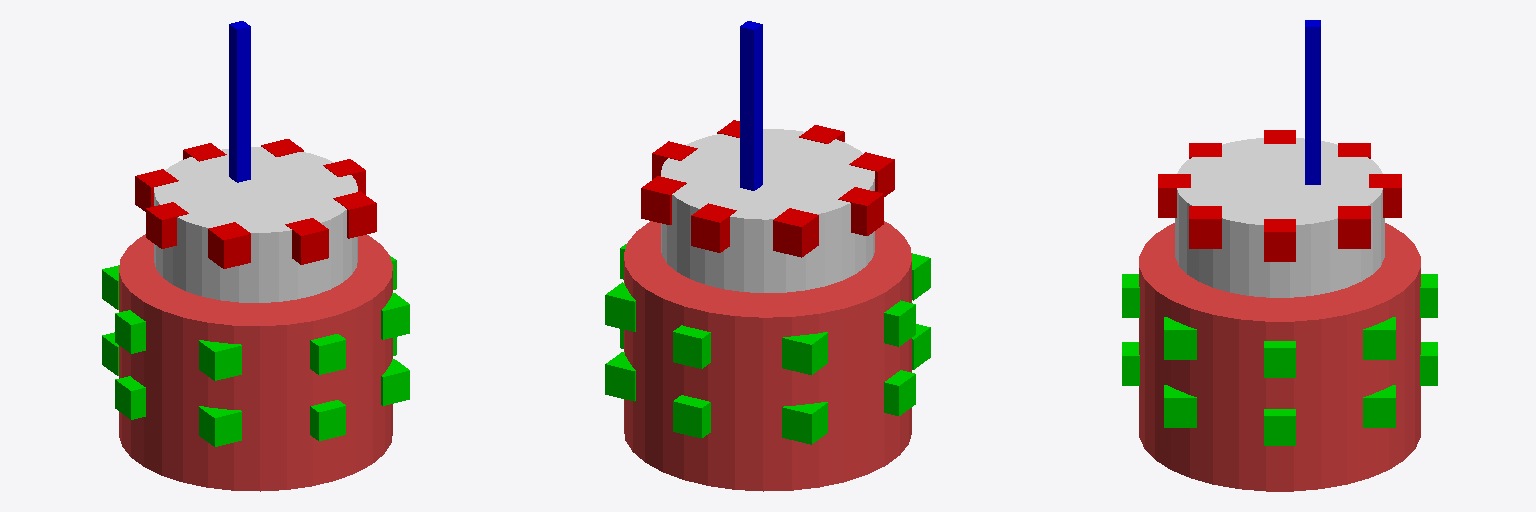
The robot description file, URDF, robot "random_bottle":
<?xml version="1.0"?>
<robot name="random_bottle">

  <!-- Define the cap link -->
  <link name="link1">
    <visual>
      <geometry>
        <mesh filename="cap.obj" scale="1.0 1.0 1.0"/>
      </geometry>
       <material name="white">
        <color rgba=".9 .9 .9 1"/>
      </material>

    </visual>
    <collision>
      <geometry>
        <mesh filename="cap.obj" scale="1.0 1.0 1.0"/>
      </geometry>
    </collision>

    <inertial>
      <mass value="0.014248400368484066"/> <!-- You can adjust the mass as needed -->
      <origin rpy="0 0 0" xyz="0 0 0"/>
      <inertia ixx="4.340370778324409e-06" ixy="0.0" ixz="0.0" iyy="4.340370778324409e-06" iyz="0.0" izz="7.291925552288946e-06"/>
    </inertial>
  </link>

    <link name="l10">
    <visual>
      <geometry>
        <box size="0.01 0.01 0.01"/>
      </geometry>

      <material name="red">
        <color rgba="0.9 0.0 0.0 1"/>
      </material>

    </visual>

    <inertial>
      <mass value="0.0001"/> <!-- You can adjust the mass as needed -->
      <origin rpy="0 0 0" xyz="0 0 -0.00"/> <!-- Offset by half of link1's height + 0.03m for the margin -->
      <inertia ixx="0.000000003" ixy="0.0" ixz="0.0" iyy="0.0000003" iyz="0.0" izz="0.00000003"/>
    </inertial>

  </link>
  <link name="l11">
    <visual>
      <geometry>
        <box size="0.01 0.01 0.01"/>
      </geometry>

      <material name="red">
        <color rgba="0.9 0.0 0.0 1"/>
      </material>

    </visual>

    <inertial>
      <mass value="0.0001"/> <!-- You can adjust the mass as needed -->
      <origin rpy="0 0 0" xyz="0 0 -0.00"/> <!-- Offset by half of link1's height + 0.03m for the margin -->
      <inertia ixx="0.000000003" ixy="0.0" ixz="0.0" iyy="0.0000003" iyz="0.0" izz="0.00000003"/>
    </inertial>

  </link>
  <link name="l12">
    <visual>
      <geometry>
        <box size="0.01 0.01 0.01"/>
      </geometry>

      <material name="red">
        <color rgba="0.9 0.0 0.0 1"/>
      </material>

    </visual>

    <inertial>
      <mass value="0.0001"/> <!-- You can adjust the mass as needed -->
      <origin rpy="0 0 0" xyz="0 0 -0.00"/> <!-- Offset by half of link1's height + 0.03m for the margin -->
      <inertia ixx="0.000000003" ixy="0.0" ixz="0.0" iyy="0.0000003" iyz="0.0" izz="0.00000003"/>
    </inertial>

  </link>
  <link name="l13">
    <visual>
      <geometry>
        <box size="0.01 0.01 0.01"/>
      </geometry>

      <material name="red">
        <color rgba="0.9 0.0 0.0 1"/>
      </material>

    </visual>

    <inertial>
      <mass value="0.0001"/> <!-- You can adjust the mass as needed -->
      <origin rpy="0 0 0" xyz="0 0 -0.00"/> <!-- Offset by half of link1's height + 0.03m for the margin -->
      <inertia ixx="0.000000003" ixy="0.0" ixz="0.0" iyy="0.0000003" iyz="0.0" izz="0.00000003"/>
    </inertial>

  </link>
  <link name="l10b">
    <visual>
      <geometry>
        <box size="0.01 0.01 0.01"/>
      </geometry>

      <material name="red">
        <color rgba="0.9 0.0 0.0 1"/>
      </material>

    </visual>

    <inertial>
      <mass value="0.0001"/> <!-- You can adjust the mass as needed -->
      <origin rpy="0 0 0" xyz="0 0 -0.00"/> <!-- Offset by half of link1's height + 0.03m for the margin -->
      <inertia ixx="0.000000003" ixy="0.0" ixz="0.0" iyy="0.0000003" iyz="0.0" izz="0.00000003"/>
    </inertial>

  </link>
  <link name="l11b">
    <visual>
      <geometry>
        <box size="0.01 0.01 0.01"/>
      </geometry>

      <material name="red">
        <color rgba="0.9 0.0 0.0 1"/>
      </material>

    </visual>

    <inertial>
      <mass value="0.0001"/> <!-- You can adjust the mass as needed -->
      <origin rpy="0 0 0" xyz="0 0 -0.00"/> <!-- Offset by half of link1's height + 0.03m for the margin -->
      <inertia ixx="0.000000003" ixy="0.0" ixz="0.0" iyy="0.0000003" iyz="0.0" izz="0.00000003"/>
    </inertial>

  </link>
  <link name="l12b">
    <visual>
      <geometry>
        <box size="0.01 0.01 0.01"/>
      </geometry>

      <material name="red">
        <color rgba="0.9 0.0 0.0 1"/>
      </material>

    </visual>

    <inertial>
      <mass value="0.0001"/> <!-- You can adjust the mass as needed -->
      <origin rpy="0 0 0" xyz="0 0 -0.00"/> <!-- Offset by half of link1's height + 0.03m for the margin -->
      <inertia ixx="0.000000003" ixy="0.0" ixz="0.0" iyy="0.0000003" iyz="0.0" izz="0.00000003"/>
    </inertial>

  </link>
  <link name="l13b">
    <visual>
      <geometry>
        <box size="0.01 0.01 0.01"/>
      </geometry>

      <material name="red">
        <color rgba="0.9 0.0 0.0 1"/>
      </material>

    </visual>

    <inertial>
      <mass value="0.0001"/> <!-- You can adjust the mass as needed -->
      <origin rpy="0 0 0" xyz="0 0 -0.00"/> <!-- Offset by half of link1's height + 0.03m for the margin -->
      <inertia ixx="0.000000003" ixy="0.0" ixz="0.0" iyy="0.0000003" iyz="0.0" izz="0.00000003"/>
    </inertial>

  </link>
  <link name="l20">
    <visual>
      <geometry>
        <box size="0.01 0.01 0.01"/>
      </geometry>

      <material name="red">
        <color rgba="0.0 0.9 0.0 1"/>
      </material>

    </visual>

    <inertial>
      <mass value="0.0001"/> <!-- You can adjust the mass as needed -->
      <origin rpy="0 0 0" xyz="0 0 -0.00"/> <!-- Offset by half of link1's height + 0.03m for the margin -->
      <inertia ixx="0.000000003" ixy="0.0" ixz="0.0" iyy="0.0000003" iyz="0.0" izz="0.00000003"/>
    </inertial>

  </link>
  <link name="l21">
    <visual>
      <geometry>
        <box size="0.01 0.01 0.01"/>
      </geometry>

      <material name="red">
        <color rgba="0.0 0.9 0.0 1"/>
      </material>

    </visual>

    <inertial>
      <mass value="0.0001"/> <!-- You can adjust the mass as needed -->
      <origin rpy="0 0 0" xyz="0 0 -0.00"/> <!-- Offset by half of link1's height + 0.03m for the margin -->
      <inertia ixx="0.000000003" ixy="0.0" ixz="0.0" iyy="0.0000003" iyz="0.0" izz="0.00000003"/>
    </inertial>

  </link>
  <link name="l22">
    <visual>
      <geometry>
        <box size="0.01 0.01 0.01"/>
      </geometry>

      <material name="red">
        <color rgba="0.0 0.9 0.0 1"/>
      </material>

    </visual>

    <inertial>
      <mass value="0.0001"/> <!-- You can adjust the mass as needed -->
      <origin rpy="0 0 0" xyz="0 0 -0.00"/> <!-- Offset by half of link1's height + 0.03m for the margin -->
      <inertia ixx="0.000000003" ixy="0.0" ixz="0.0" iyy="0.0000003" iyz="0.0" izz="0.00000003"/>
    </inertial>

  </link>
  <link name="l23">
    <visual>
      <geometry>
        <box size="0.01 0.01 0.01"/>
      </geometry>

      <material name="red">
        <color rgba="0.0 0.9 0.0 1"/>
      </material>

    </visual>

    <inertial>
      <mass value="0.0001"/> <!-- You can adjust the mass as needed -->
      <origin rpy="0 0 0" xyz="0 0 -0.00"/> <!-- Offset by half of link1's height + 0.03m for the margin -->
      <inertia ixx="0.000000003" ixy="0.0" ixz="0.0" iyy="0.0000003" iyz="0.0" izz="0.00000003"/>
    </inertial>

  </link>
  <link name="l24">
    <visual>
      <geometry>
        <box size="0.01 0.01 0.01"/>
      </geometry>

      <material name="red">
        <color rgba="0.0 0.9 0.0 1"/>
      </material>

    </visual>

    <inertial>
      <mass value="0.0001"/> <!-- You can adjust the mass as needed -->
      <origin rpy="0 0 0" xyz="0 0 -0.00"/> <!-- Offset by half of link1's height + 0.03m for the margin -->
      <inertia ixx="0.000000003" ixy="0.0" ixz="0.0" iyy="0.0000003" iyz="0.0" izz="0.00000003"/>
    </inertial>

  </link>
  <link name="l25">
    <visual>
      <geometry>
        <box size="0.01 0.01 0.01"/>
      </geometry>

      <material name="red">
        <color rgba="0.0 0.9 0.0 1"/>
      </material>

    </visual>

    <inertial>
      <mass value="0.0001"/> <!-- You can adjust the mass as needed -->
      <origin rpy="0 0 0" xyz="0 0 -0.00"/> <!-- Offset by half of link1's height + 0.03m for the margin -->
      <inertia ixx="0.000000003" ixy="0.0" ixz="0.0" iyy="0.0000003" iyz="0.0" izz="0.00000003"/>
    </inertial>

  </link>
  <link name="l26">
    <visual>
      <geometry>
        <box size="0.01 0.01 0.01"/>
      </geometry>

      <material name="red">
        <color rgba="0.0 0.9 0.0 1"/>
      </material>

    </visual>

    <inertial>
      <mass value="0.0001"/> <!-- You can adjust the mass as needed -->
      <origin rpy="0 0 0" xyz="0 0 -0.00"/> <!-- Offset by half of link1's height + 0.03m for the margin -->
      <inertia ixx="0.000000003" ixy="0.0" ixz="0.0" iyy="0.0000003" iyz="0.0" izz="0.00000003"/>
    </inertial>

  </link>
  <link name="l27">
    <visual>
      <geometry>
        <box size="0.01 0.01 0.01"/>
      </geometry>

      <material name="red">
        <color rgba="0.0 0.9 0.0 1"/>
      </material>

    </visual>

    <inertial>
      <mass value="0.0001"/> <!-- You can adjust the mass as needed -->
      <origin rpy="0 0 0" xyz="0 0 -0.00"/> <!-- Offset by half of link1's height + 0.03m for the margin -->
      <inertia ixx="0.000000003" ixy="0.0" ixz="0.0" iyy="0.0000003" iyz="0.0" izz="0.00000003"/>
    </inertial>

  </link>
  <link name="l30">
    <visual>
      <geometry>
        <box size="0.01 0.01 0.01"/>
      </geometry>

      <material name="red">
        <color rgba="0.0 0.9 0.0 1"/>
      </material>

    </visual>

    <inertial>
      <mass value="0.0001"/> <!-- You can adjust the mass as needed -->
      <origin rpy="0 0 0" xyz="0 0 -0.00"/> <!-- Offset by half of link1's height + 0.03m for the margin -->
      <inertia ixx="0.000000003" ixy="0.0" ixz="0.0" iyy="0.0000003" iyz="0.0" izz="0.00000003"/>
    </inertial>

  </link>
  <link name="l31">
    <visual>
      <geometry>
        <box size="0.01 0.01 0.01"/>
      </geometry>

      <material name="red">
        <color rgba="0.0 0.9 0.0 1"/>
      </material>

    </visual>

    <inertial>
      <mass value="0.0001"/> <!-- You can adjust the mass as needed -->
      <origin rpy="0 0 0" xyz="0 0 -0.00"/> <!-- Offset by half of link1's height + 0.03m for the margin -->
      <inertia ixx="0.000000003" ixy="0.0" ixz="0.0" iyy="0.0000003" iyz="0.0" izz="0.00000003"/>
    </inertial>

  </link>
  <link name="l32">
    <visual>
      <geometry>
        <box size="0.01 0.01 0.01"/>
      </geometry>

      <material name="red">
        <color rgba="0.0 0.9 0.0 1"/>
      </material>

    </visual>

    <inertial>
      <mass value="0.0001"/> <!-- You can adjust the mass as needed -->
      <origin rpy="0 0 0" xyz="0 0 -0.00"/> <!-- Offset by half of link1's height + 0.03m for the margin -->
      <inertia ixx="0.000000003" ixy="0.0" ixz="0.0" iyy="0.0000003" iyz="0.0" izz="0.00000003"/>
    </inertial>

  </link>
  <link name="l33">
    <visual>
      <geometry>
        <box size="0.01 0.01 0.01"/>
      </geometry>

      <material name="red">
        <color rgba="0.0 0.9 0.0 1"/>
      </material>

    </visual>

    <inertial>
      <mass value="0.0001"/> <!-- You can adjust the mass as needed -->
      <origin rpy="0 0 0" xyz="0 0 -0.00"/> <!-- Offset by half of link1's height + 0.03m for the margin -->
      <inertia ixx="0.000000003" ixy="0.0" ixz="0.0" iyy="0.0000003" iyz="0.0" izz="0.00000003"/>
    </inertial>

  </link>
  <link name="l34">
    <visual>
      <geometry>
        <box size="0.01 0.01 0.01"/>
      </geometry>

      <material name="red">
        <color rgba="0.0 0.9 0.0 1"/>
      </material>

    </visual>

    <inertial>
      <mass value="0.0001"/> <!-- You can adjust the mass as needed -->
      <origin rpy="0 0 0" xyz="0 0 -0.00"/> <!-- Offset by half of link1's height + 0.03m for the margin -->
      <inertia ixx="0.000000003" ixy="0.0" ixz="0.0" iyy="0.0000003" iyz="0.0" izz="0.00000003"/>
    </inertial>

  </link>
  <link name="l35">
    <visual>
      <geometry>
        <box size="0.01 0.01 0.01"/>
      </geometry>

      <material name="red">
        <color rgba="0.0 0.9 0.0 1"/>
      </material>

    </visual>

    <inertial>
      <mass value="0.0001"/> <!-- You can adjust the mass as needed -->
      <origin rpy="0 0 0" xyz="0 0 -0.00"/> <!-- Offset by half of link1's height + 0.03m for the margin -->
      <inertia ixx="0.000000003" ixy="0.0" ixz="0.0" iyy="0.0000003" iyz="0.0" izz="0.00000003"/>
    </inertial>

  </link>
  <link name="l36">
    <visual>
      <geometry>
        <box size="0.01 0.01 0.01"/>
      </geometry>

      <material name="red">
        <color rgba="0.0 0.9 0.0 1"/>
      </material>

    </visual>

    <inertial>
      <mass value="0.0001"/> <!-- You can adjust the mass as needed -->
      <origin rpy="0 0 0" xyz="0 0 -0.00"/> <!-- Offset by half of link1's height + 0.03m for the margin -->
      <inertia ixx="0.000000003" ixy="0.0" ixz="0.0" iyy="0.0000003" iyz="0.0" izz="0.00000003"/>
    </inertial>

  </link>
  <link name="l37">
    <visual>
      <geometry>
        <box size="0.01 0.01 0.01"/>
      </geometry>

      <material name="red">
        <color rgba="0.0 0.9 0.0 1"/>
      </material>

    </visual>

    <inertial>
      <mass value="0.0001"/> <!-- You can adjust the mass as needed -->
      <origin rpy="0 0 0" xyz="0 0 -0.00"/> <!-- Offset by half of link1's height + 0.03m for the margin -->
      <inertia ixx="0.000000003" ixy="0.0" ixz="0.0" iyy="0.0000003" iyz="0.0" izz="0.00000003"/>
    </inertial>

  </link>


  <link name="hint">
    <visual>
      <geometry>
        <box size="0.005 0.005 0.07"/> <!-- 9cm x 9cm x 6cm -->
      </geometry>
       <material name="blue">
        <color rgba=".0 .0 .9 1"/>
      </material>
    </visual>

    <inertial>
      <mass value="0.0001"/> <!-- You can adjust the mass as needed -->
      <origin rpy="0 0 0" xyz="0 0 -0.00"/> <!-- Offset by half of link1's height + 0.03m for the margin -->
      <inertia ixx="0.000000003" ixy="0.0" ixz="0.0" iyy="0.0000003" iyz="0.0" izz="0.00000003"/>
    </inertial>


  </link>

  <!-- Define the base link -->
  <link name="link2">
    <visual>
      <geometry>
        <mesh filename="base.obj" scale="1.0 1.0 1.0"/>
      </geometry>
      <material name="red">
        <color rgba=".9 .3 .3 1"/>
      </material>

    </visual>

    <collision>
      <geometry>
        <mesh filename="base.obj" scale="1.0 1.0 1.0"/>
      </geometry>
    </collision>

    <inertial>
      <mass value="0.052391131546387325"/> <!-- You can adjust the mass as needed -->
      <origin rpy="0 0 0" xyz="0 0 -0.00"/> <!-- Offset by half of link1's height + 0.03m for the margin -->
      <inertia ixx="3.840326400606563e-05" ixy="0.0" ixz="0.0" iyy="3.840326400606563e-05" iyz="0.0" izz="4.8397460181589955e-05"/>
    </inertial>
  </link>



  <link name="brake">
   <visual>
      <geometry>
        <box size="0.02 0.02 0.005"/> <!-- 6cm x 6cm x 2cm -->
      </geometry>
       <material name="gray">
        <color rgba=".5 .5 .5 1"/>
      </material>

    </visual>
    <collision>
      <geometry>
        <box size="0.02 0.02 0.005"/> <!-- 6cm x 6cm x 2cm -->
      </geometry>
    </collision>

    <inertial>
      <mass value="0.005"/> <!-- You can adjust the mass as needed -->
      <origin rpy="0 0 0" xyz="0 0 0"/>
      <inertia ixx="0.00018" ixy="0.0" ixz="0.0" iyy="0.00018" iyz="0.0" izz="0.00018"/>
    </inertial>
  </link>

  <!-- Define the joint connecting link1 and link2 as a revolute joint along z-axis -->
  <joint name="fix_joint" type="fixed">
    <parent link="link1"/>
    <child link="hint"/>
    <origin rpy="0 0 0" xyz="0 0.01 0.03"/> <!-- Offset by half of link1's height for the margin -->
    <axis xyz="0 0 1"/>
  </joint>

  <!-- Define the joint connecting link1 and link2 as a revolute joint along z-axis -->
  <joint name="brake_joint" type="prismatic">
    <parent link="link2"/>
    <child link="brake"/>
    <origin rpy="0 0 0" xyz="0 0 0.05270298287467711"/> <!-- Offset by half of link1's height for the margin -->
    <axis xyz="0 0 1"/>
    <limit lower="-0.02" upper="0.02" />
    <!-- <dynamics damping="0.0" friction="0.0"/> -->
  </joint>


  <joint name="b_joint" type="revolute">
    <parent link="link2"/>
    <child link="link1"/>
    <origin rpy="0 0 0" xyz="0 0 0.04351971834222691"/> <!-- Offset by half of link1's height for the margin -->
    <axis xyz="0 0 1"/>
    <!-- No joint limits -->
    <dynamics damping="0.0" friction="0.0"/>
  </joint>


  <!-- marker -->
    <joint name="jl10" type="fixed">
    <parent link="link1"/>
    <child link="l10"/>
    <origin rpy="0 0 0" xyz="0.0 0.03199285928693722 0.007254979359735058"/> <!-- Offset by half of link1's height for the margin -->
    <axis xyz="0 0 1"/>
  </joint>
  <joint name="jl11" type="fixed">
    <parent link="link1"/>
    <child link="l11"/>
    <origin rpy="0 0 0" xyz="0.02262236744825832 0.02262236805442232 0.007254979359735058"/> <!-- Offset by half of link1's height for the margin -->
    <axis xyz="0 0 1"/>
  </joint>
  <joint name="jl12" type="fixed">
    <parent link="link1"/>
    <child link="l12"/>
    <origin rpy="0 0 0" xyz="0.03199285928693721 8.572453560528557e-10 0.007254979359735058"/> <!-- Offset by half of link1's height for the margin -->
    <axis xyz="0 0 1"/>
  </joint>
  <joint name="jl13" type="fixed">
    <parent link="link1"/>
    <child link="l13"/>
    <origin rpy="0 0 0" xyz="0.022622368660586305 -0.022622366842094302 0.007254979359735058"/> <!-- Offset by half of link1's height for the margin -->
    <axis xyz="0 0 1"/>
  </joint>
  <joint name="jl10b" type="fixed">
    <parent link="link1"/>
    <child link="l10b"/>
    <origin rpy="0 0 0" xyz="1.7144907121057109e-09 -0.031992859286937174 0.007254979359735058"/> <!-- Offset by half of link1's height for the margin -->
    <axis xyz="0 0 1"/>
  </joint>
  <joint name="jl11b" type="fixed">
    <parent link="link1"/>
    <child link="l11b"/>
    <origin rpy="0 0 0" xyz="-0.02262236623593026 -0.02262236926675029 0.007254979359735058"/> <!-- Offset by half of link1's height for the margin -->
    <axis xyz="0 0 1"/>
  </joint>
  <joint name="jl12b" type="fixed">
    <parent link="link1"/>
    <child link="l12b"/>
    <origin rpy="0 0 0" xyz="-0.03199285928693712 -2.5717360539508814e-09 0.007254979359735058"/> <!-- Offset by half of link1's height for the margin -->
    <axis xyz="0 0 1"/>
  </joint>
  <joint name="jl13b" type="fixed">
    <parent link="link1"/>
    <child link="l13b"/>
    <origin rpy="0 0 0" xyz="-0.022622369872914234 0.022622365629766213 0.007254979359735058"/> <!-- Offset by half of link1's height for the margin -->
    <axis xyz="0 0 1"/>
  </joint>
  <joint name="jl20" type="fixed">
    <parent link="link2"/>
    <child link="l20"/>
    <origin rpy="0 0 0" xyz="0.0 0.042983066349137705 0.01711183100533615"/> <!-- Offset by half of link1's height for the margin -->
    <axis xyz="0 0 1"/>
  </joint>
  <joint name="jl21" type="fixed">
    <parent link="link2"/>
    <child link="l21"/>
    <origin rpy="0 0 0" xyz="0.030393617284469647 0.030393618098863488 0.01711183100533615"/> <!-- Offset by half of link1's height for the margin -->
    <axis xyz="0 0 1"/>
  </joint>
  <joint name="jl22" type="fixed">
    <parent link="link2"/>
    <child link="l22"/>
    <origin rpy="0 0 0" xyz="0.04298306634913769 1.1517268177325691e-09 0.01711183100533615"/> <!-- Offset by half of link1's height for the margin -->
    <axis xyz="0 0 1"/>
  </joint>
  <joint name="jl23" type="fixed">
    <parent link="link2"/>
    <child link="l23"/>
    <origin rpy="0 0 0" xyz="0.0303936189132573 -0.030393616470075786 0.01711183100533615"/> <!-- Offset by half of link1's height for the margin -->
    <axis xyz="0 0 1"/>
  </joint>
  <joint name="jl24" type="fixed">
    <parent link="link2"/>
    <child link="l24"/>
    <origin rpy="0 0 0" xyz="2.3034536354651374e-09 -0.04298306634913764 0.01711183100533615"/> <!-- Offset by half of link1's height for the margin -->
    <axis xyz="0 0 1"/>
  </joint>
  <joint name="jl25" type="fixed">
    <parent link="link2"/>
    <child link="l25"/>
    <origin rpy="0 0 0" xyz="-0.03039361565568189 -0.030393619727651117 0.01711183100533615"/> <!-- Offset by half of link1's height for the margin -->
    <axis xyz="0 0 1"/>
  </joint>
  <joint name="jl26" type="fixed">
    <parent link="link2"/>
    <child link="l26"/>
    <origin rpy="0 0 0" xyz="-0.042983066349137566 -3.455180434109388e-09 0.01711183100533615"/> <!-- Offset by half of link1's height for the margin -->
    <axis xyz="0 0 1"/>
  </joint>
  <joint name="jl27" type="fixed">
    <parent link="link2"/>
    <child link="l27"/>
    <origin rpy="0 0 0" xyz="-0.030393620542044877 0.030393614841287993 0.01711183100533615"/> <!-- Offset by half of link1's height for the margin -->
    <axis xyz="0 0 1"/>
  </joint>
  <joint name="jl30" type="fixed">
    <parent link="link2"/>
    <child link="l30"/>
    <origin rpy="0 0 0" xyz="0.0 0.042983066349137705 -0.005703943668445384"/> <!-- Offset by half of link1's height for the margin -->
    <axis xyz="0 0 1"/>
  </joint>
  <joint name="jl31" type="fixed">
    <parent link="link2"/>
    <child link="l31"/>
    <origin rpy="0 0 0" xyz="0.030393617284469647 0.030393618098863488 -0.005703943668445384"/> <!-- Offset by half of link1's height for the margin -->
    <axis xyz="0 0 1"/>
  </joint>
  <joint name="jl32" type="fixed">
    <parent link="link2"/>
    <child link="l32"/>
    <origin rpy="0 0 0" xyz="0.04298306634913769 1.1517268177325691e-09 -0.005703943668445384"/> <!-- Offset by half of link1's height for the margin -->
    <axis xyz="0 0 1"/>
  </joint>
  <joint name="jl33" type="fixed">
    <parent link="link2"/>
    <child link="l33"/>
    <origin rpy="0 0 0" xyz="0.0303936189132573 -0.030393616470075786 -0.005703943668445384"/> <!-- Offset by half of link1's height for the margin -->
    <axis xyz="0 0 1"/>
  </joint>
  <joint name="jl34" type="fixed">
    <parent link="link2"/>
    <child link="l34"/>
    <origin rpy="0 0 0" xyz="2.3034536354651374e-09 -0.04298306634913764 -0.005703943668445384"/> <!-- Offset by half of link1's height for the margin -->
    <axis xyz="0 0 1"/>
  </joint>
  <joint name="jl35" type="fixed">
    <parent link="link2"/>
    <child link="l35"/>
    <origin rpy="0 0 0" xyz="-0.03039361565568189 -0.030393619727651117 -0.005703943668445384"/> <!-- Offset by half of link1's height for the margin -->
    <axis xyz="0 0 1"/>
  </joint>
  <joint name="jl36" type="fixed">
    <parent link="link2"/>
    <child link="l36"/>
    <origin rpy="0 0 0" xyz="-0.042983066349137566 -3.455180434109388e-09 -0.005703943668445384"/> <!-- Offset by half of link1's height for the margin -->
    <axis xyz="0 0 1"/>
  </joint>
  <joint name="jl37" type="fixed">
    <parent link="link2"/>
    <child link="l37"/>
    <origin rpy="0 0 0" xyz="-0.030393620542044877 0.030393614841287993 -0.005703943668445384"/> <!-- Offset by half of link1's height for the margin -->
    <axis xyz="0 0 1"/>
  </joint>



</robot>

--- Render facts (derived) ---
Views: 3 orthographic renders of the robot side by side, from view 1: azimuth 30°, elevation 25°; view 2: azimuth 150°, elevation 25°; view 3: azimuth 270°, elevation 25°.
Robot: random_bottle — 28 links, 27 joints (1 revolute, 1 prismatic, 25 fixed); root link link2; default pose: every joint at zero.
Links seen in each view (by area): view 1: link2, link1, hint, l11b, l10b, l25, l35, l12b, l13, l34, l24, l26 (+7 smaller); view 2: link2, link1, hint, l13b, l10, l27, l37, l12b, l11, l20, l30, l26 (+8 smaller); view 3: link2, link1, hint, l11, l13, l12, l31, l33, l21, l23, l22, l32 (+6 smaller).
Link boxes in pixels (bbox=[...]): link2: bbox=[119, 234, 392, 491]; link1: bbox=[154, 147, 357, 302]; hint: bbox=[229, 21, 250, 182]; l11b: bbox=[208, 222, 250, 268]; l10b: bbox=[285, 218, 328, 264]; l25: bbox=[199, 340, 241, 380]; l35: bbox=[199, 406, 241, 446]; l12b: bbox=[146, 202, 188, 248]; l13: bbox=[333, 191, 376, 238]; l34: bbox=[310, 400, 345, 440]; l24: bbox=[310, 334, 345, 374]; l26: bbox=[115, 310, 145, 353]; link2: bbox=[624, 221, 911, 491]; link1: bbox=[661, 129, 874, 292]; hint: bbox=[740, 21, 762, 190]; l13b: bbox=[773, 208, 818, 257]; l10: bbox=[691, 203, 736, 252]; l27: bbox=[782, 332, 827, 374]; l37: bbox=[782, 402, 827, 444]; l12b: bbox=[838, 187, 883, 235]; l11: bbox=[641, 176, 686, 224]; l20: bbox=[673, 325, 710, 368]; l30: bbox=[673, 395, 710, 438]; l26: bbox=[884, 300, 915, 346]; link2: bbox=[1139, 223, 1420, 491]; link1: bbox=[1175, 138, 1384, 297]; hint: bbox=[1305, 20, 1320, 184]; l11: bbox=[1338, 206, 1370, 248]; l13: bbox=[1189, 206, 1221, 248]; l12: bbox=[1264, 219, 1295, 261]; l31: bbox=[1363, 385, 1395, 427]; l33: bbox=[1164, 385, 1196, 427]; l21: bbox=[1363, 317, 1395, 359]; l23: bbox=[1164, 317, 1196, 359]; l22: bbox=[1264, 341, 1295, 377]; l32: bbox=[1264, 409, 1295, 445].
Size in the robot's own frame: 0.096 by 0.096 by 0.137 metres.
2 mesh visuals loaded from 2 distinct referenced files (2 OBJ).
